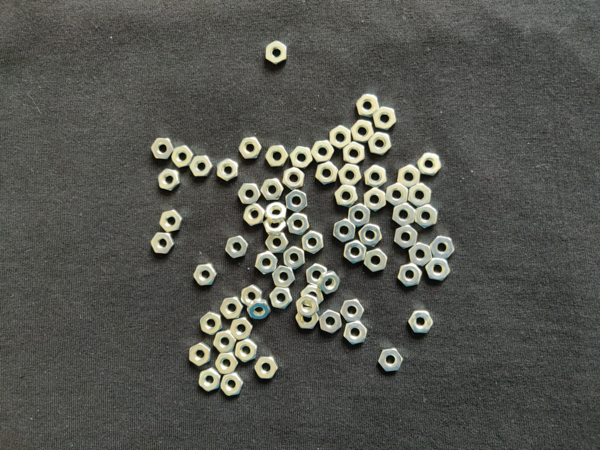nut: (425, 258, 451, 282), (254, 356, 279, 380), (392, 202, 416, 227), (368, 131, 392, 156), (408, 311, 434, 334), (341, 299, 365, 323), (317, 271, 341, 295), (409, 243, 433, 267), (364, 248, 388, 272), (397, 165, 421, 189), (379, 349, 404, 372), (398, 264, 423, 287), (430, 237, 455, 260), (356, 93, 379, 118), (221, 373, 244, 397), (215, 352, 239, 375), (200, 312, 223, 336), (230, 317, 253, 341), (344, 322, 368, 345), (300, 285, 324, 308), (160, 210, 184, 233), (395, 225, 418, 249), (415, 205, 438, 229), (344, 240, 367, 264), (364, 188, 387, 212), (290, 146, 314, 169), (408, 184, 432, 207), (418, 153, 442, 176), (315, 162, 339, 185), (373, 107, 397, 130), (199, 368, 221, 393), (349, 203, 371, 228), (221, 297, 244, 320), (272, 265, 295, 288), (359, 224, 382, 247), (239, 137, 262, 160), (335, 185, 358, 208), (320, 310, 342, 334), (151, 233, 175, 255), (302, 231, 324, 255), (334, 219, 356, 243), (265, 202, 289, 224), (286, 189, 308, 213), (260, 178, 284, 200), (311, 141, 335, 163), (330, 126, 352, 150), (266, 40, 287, 65), (190, 343, 212, 366), (214, 331, 237, 353), (296, 307, 319, 329), (296, 296, 318, 319), (306, 264, 328, 287), (270, 288, 293, 310), (194, 264, 217, 286), (226, 236, 248, 259), (159, 169, 181, 192), (256, 252, 278, 275), (243, 204, 266, 226), (172, 146, 195, 168), (217, 159, 239, 182), (365, 165, 387, 188), (339, 164, 362, 186), (351, 120, 374, 142), (284, 246, 305, 270), (387, 183, 408, 207), (241, 285, 263, 307), (287, 214, 309, 236), (239, 183, 261, 205), (283, 168, 305, 190), (236, 340, 257, 363), (266, 233, 289, 254), (190, 156, 213, 177), (266, 146, 289, 167), (344, 142, 365, 165), (152, 139, 174, 160), (248, 300, 271, 320), (263, 217, 287, 236)
